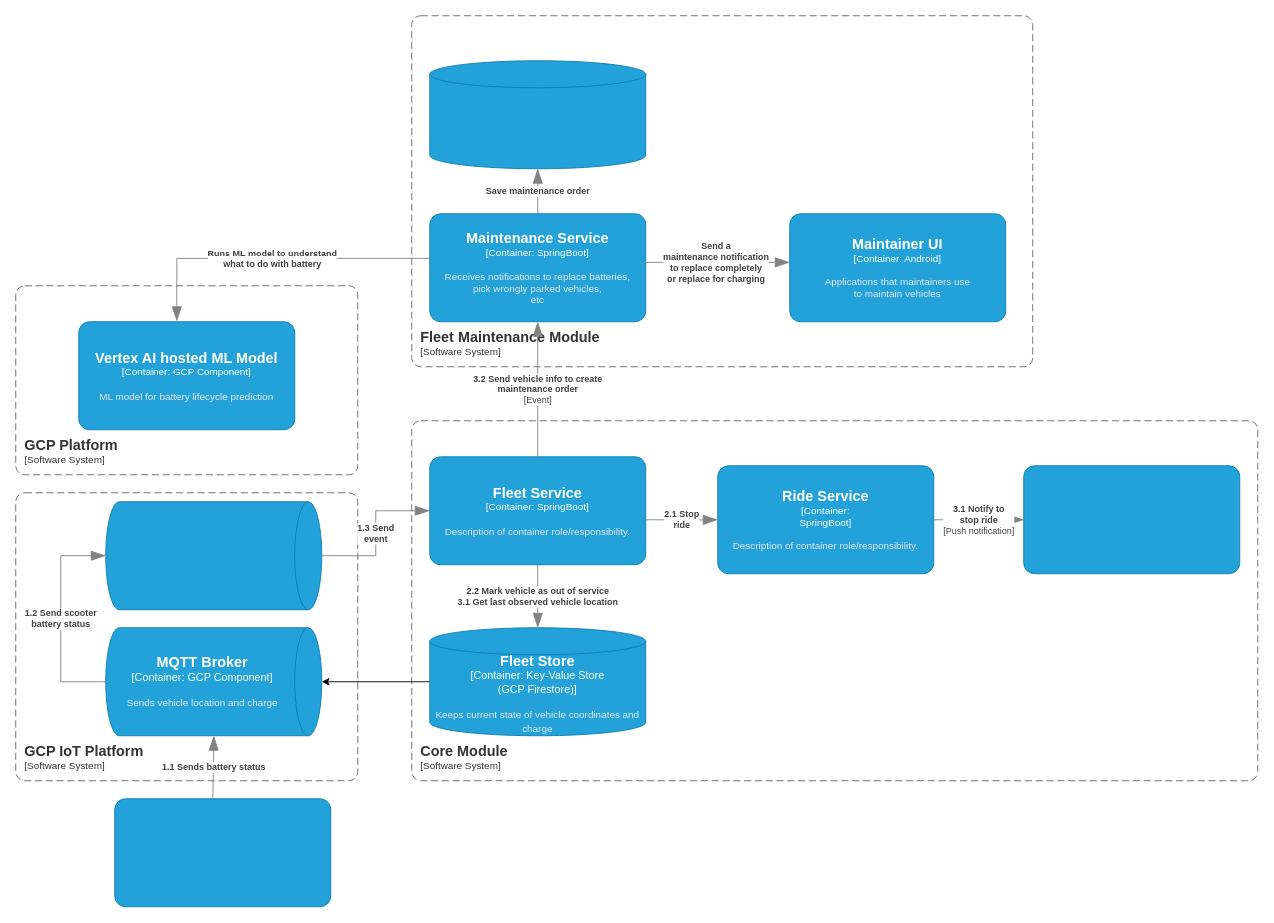
The diagram is 1274 pixels wide and 923 high, and some of its shapes have lost their labels. Each missing label, with the centre of its shape:
Maintenance Store [Container: PostgreSQL] Stores maintenance orders: the point at 537,114
Mobile App [Container: Android/iOS] Notifies user that the ride will stop: the point at 1131,519
Pub/Sub [Container: GCP Component] Message Broker: the point at 213,555
Scooter [Container: Hardware] e-sctooter: the point at 222,852
